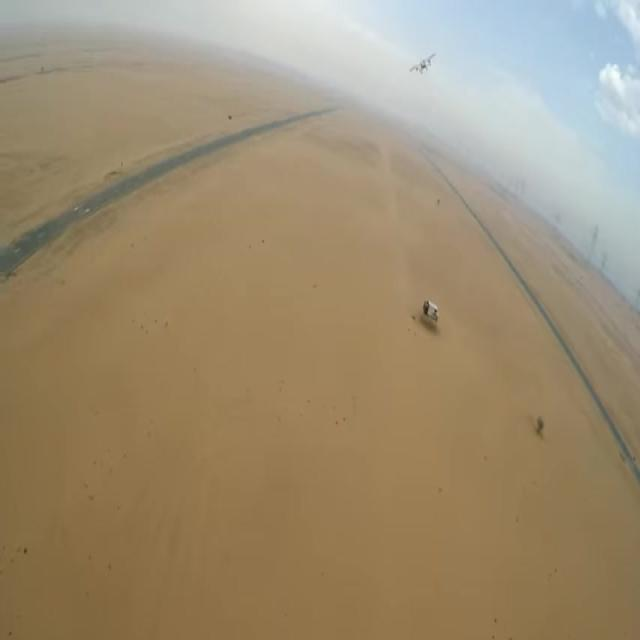iha: (408, 0, 436, 13)
